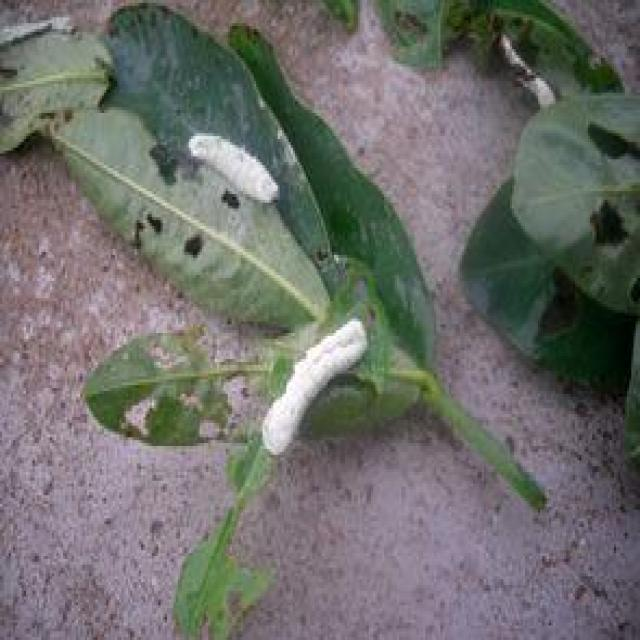BeetArmyWorm-Larva-: (257, 319, 368, 469)
